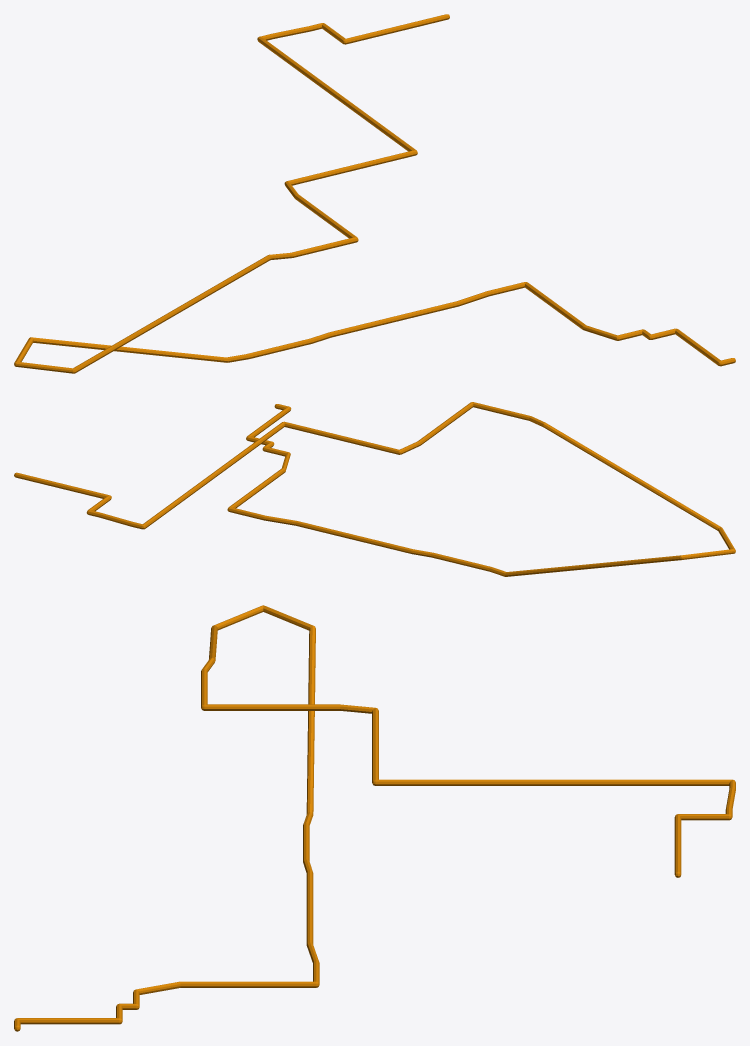
3 renders of one model, top to bottom at view 1: azimuth 30°, elevation 25°; view 2: azimuth 150°, elevation 25°; view 3: azimuth 270°, elevation 25°, orthographic. The views are drawn at different scales.
Bounding box in the file's own units: 2409 × 520 × 2123.
